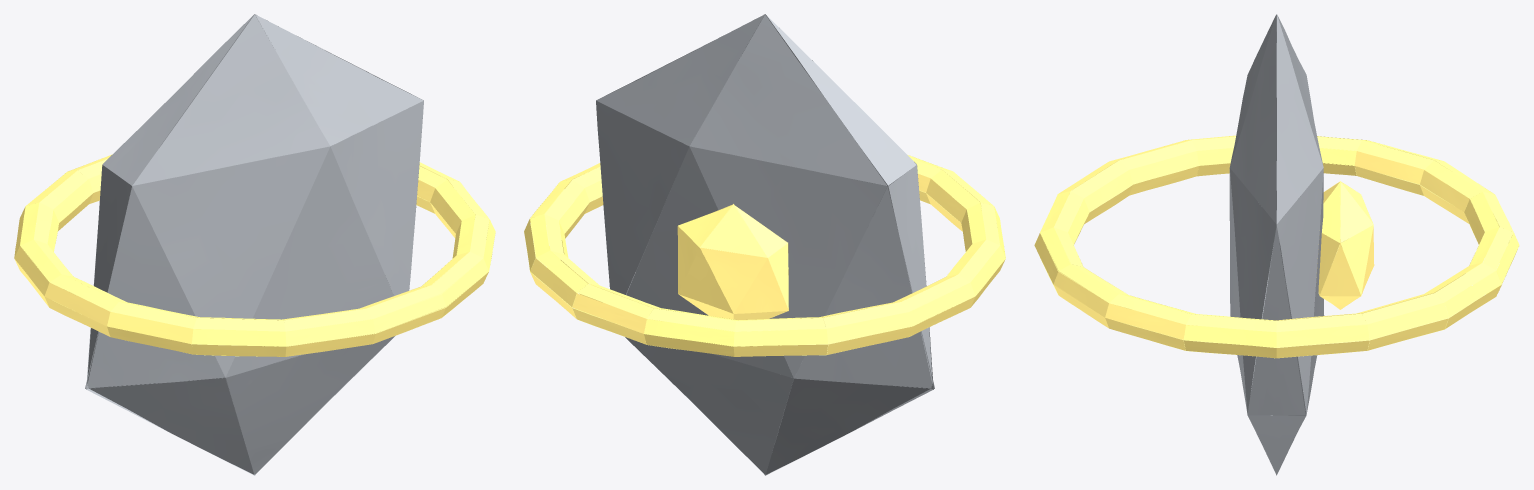
File: shield.glb
The picture shows the model from 3 angles, left to right: view 1: azimuth 30°, elevation 25°; view 2: azimuth 150°, elevation 25°; view 3: azimuth 270°, elevation 25°; orthographic projection.
Parts seen in each view (by area): view 1: Shield; view 2: Shield; view 3: Shield.
Boxes of the visible parts, x1,y1,x2,y2 form: Shield: (14, 14, 495, 475); Shield: (524, 14, 1005, 475); Shield: (1034, 14, 1519, 475).
Bounding box in the file's own units: 1.22 × 1.28 × 1.22.
